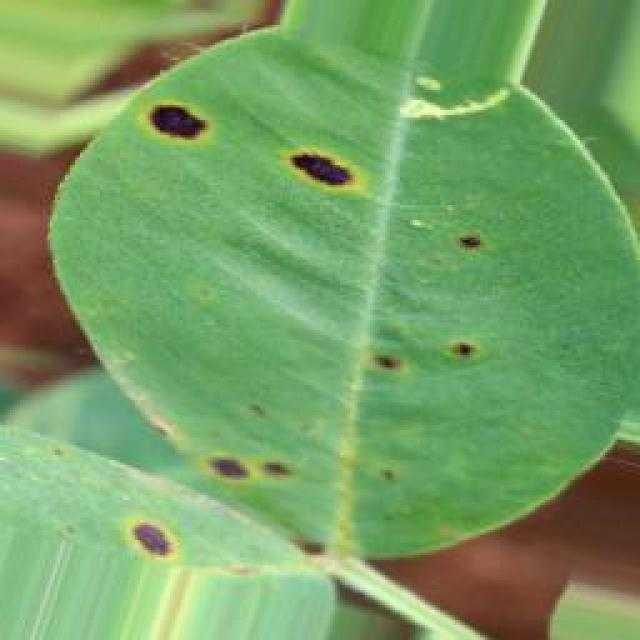Sigatoka: (118, 504, 210, 592), (272, 129, 368, 213), (136, 72, 225, 153), (195, 437, 311, 499), (346, 331, 414, 409), (349, 446, 420, 512), (425, 318, 499, 381), (436, 214, 490, 284), (230, 385, 290, 447)
